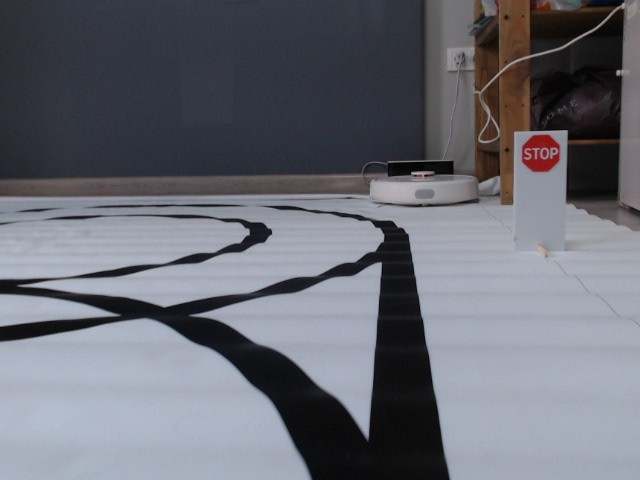Stop: (521, 133, 560, 173)
